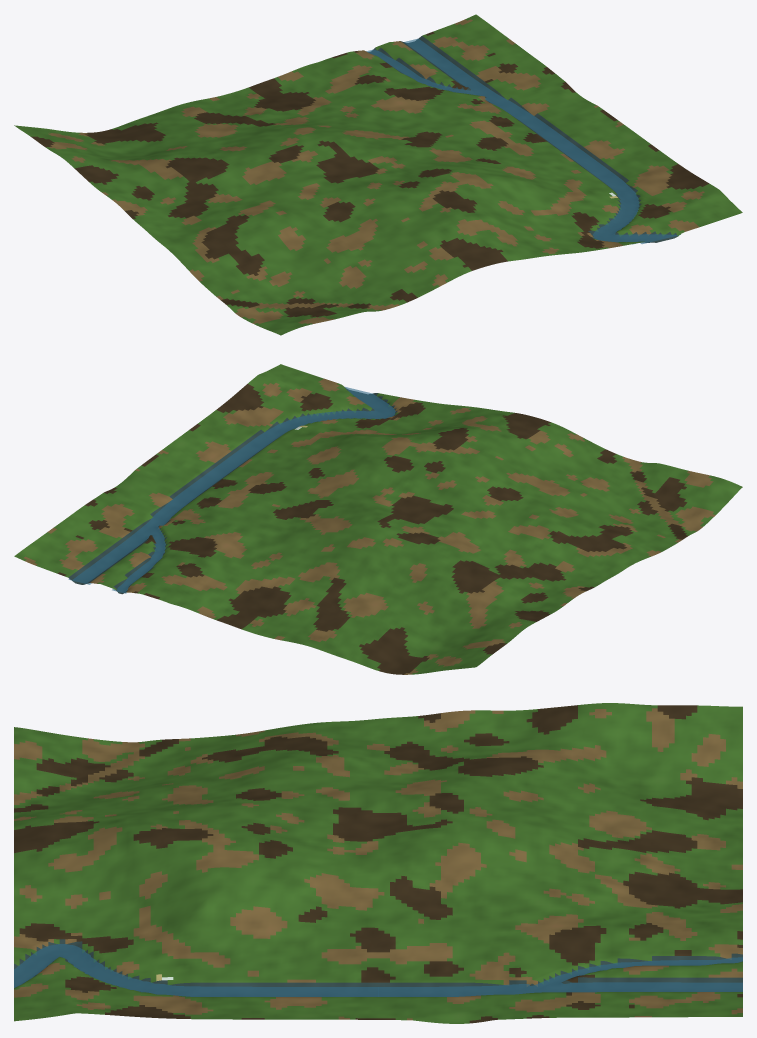
Rendered from chunk_1_4.glb.
3 renders of one model, top to bottom at view 1: azimuth 30°, elevation 25°; view 2: azimuth 150°, elevation 25°; view 3: azimuth 270°, elevation 25°, orthographic. The views are drawn at different scales.
Parts seen in each view (by area): view 1: Surface_Grass, Surface_Dirt, Surface_Mud, Surface_Water, Water; view 2: Surface_Grass, Surface_Dirt, Surface_Mud, Surface_Water, Water; view 3: Surface_Grass, Surface_Dirt, Surface_Mud, Surface_Water, Water.
Part boxes in pixels (<box>): Surface_Grass: <box>14,14,742,335</box>; Surface_Dirt: <box>48,19,704,323</box>; Surface_Mud: <box>31,31,709,317</box>; Surface_Water: <box>368,36,677,242</box>; Water: <box>366,38,680,244</box>; Surface_Grass: <box>14,364,742,674</box>; Surface_Dirt: <box>23,378,715,674</box>; Surface_Mud: <box>57,384,687,674</box>; Surface_Water: <box>68,388,397,594</box>; Water: <box>68,387,395,593</box>; Surface_Grass: <box>14,703,742,1023</box>; Surface_Dirt: <box>14,708,742,1020</box>; Surface_Mud: <box>14,705,742,1023</box>; Surface_Water: <box>14,939,742,996</box>; Water: <box>14,944,742,996</box>.
Bounding box in the file's own units: 256 × 25.49 × 256.
